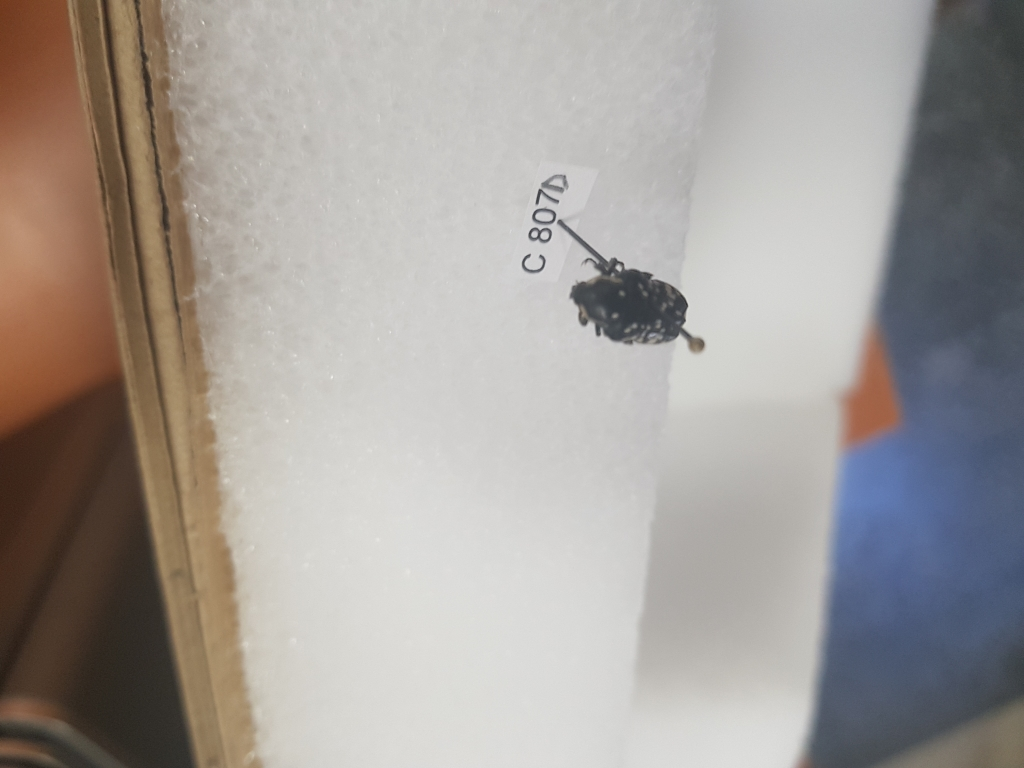Oxythyrea_albopicta: (561, 244, 694, 352)
